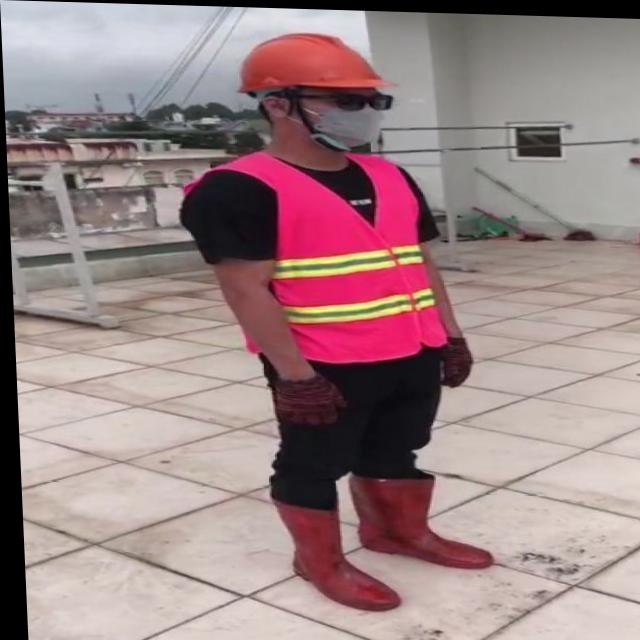Gloves: (267, 367, 344, 426), (434, 333, 470, 385)
Helmet: (233, 28, 399, 99)
Safety-Boot: (268, 491, 395, 609), (342, 464, 488, 566)
Safety-Vest: (200, 145, 445, 365)
